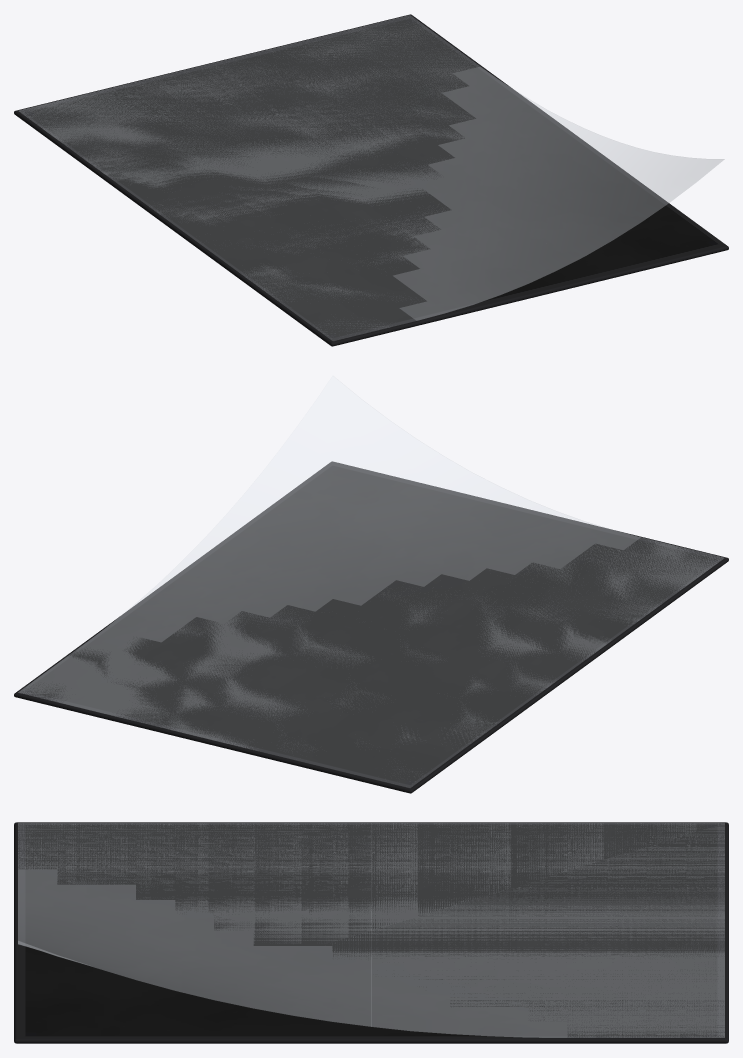
The model's file is GelLifterBlack.obj.
The picture shows the model from 3 angles, top to bottom: view 1: azimuth 30°, elevation 25°; view 2: azimuth 150°, elevation 25°; view 3: azimuth 270°, elevation 25°; orthographic projection. The views are drawn at different scales.
Parts seen in each view (by area): view 1: GelLifter, CoverSheetPET; view 2: CoverSheetPET, GelLifter; view 3: GelLifter, CoverSheetPET.
Boxes of the visible parts, <box> form: GelLifter: <box>14,14,728,346</box>; CoverSheetPET: <box>18,15,724,340</box>; CoverSheetPET: <box>18,376,724,787</box>; GelLifter: <box>14,461,728,793</box>; GelLifter: <box>14,822,728,1043</box>; CoverSheetPET: <box>18,823,724,1037</box>.
Bounding box in the file's own units: 0.13 × 0.0284 × 0.18.
2 materials, 1 textured.
